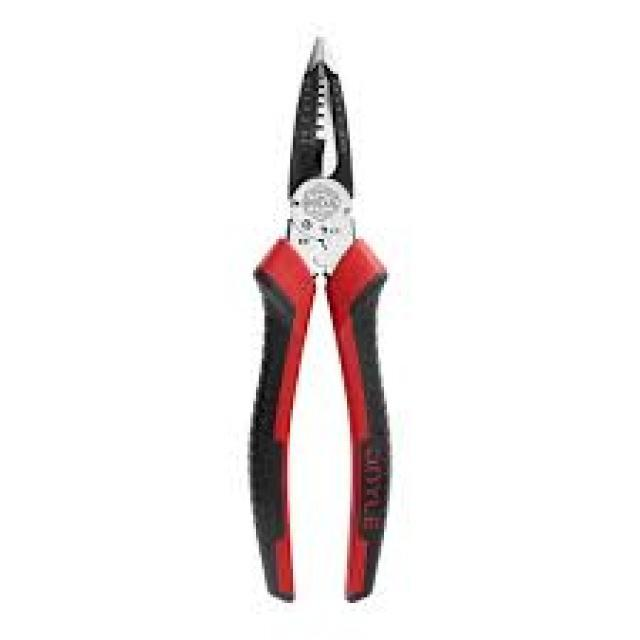pliers: (236, 24, 397, 598)
